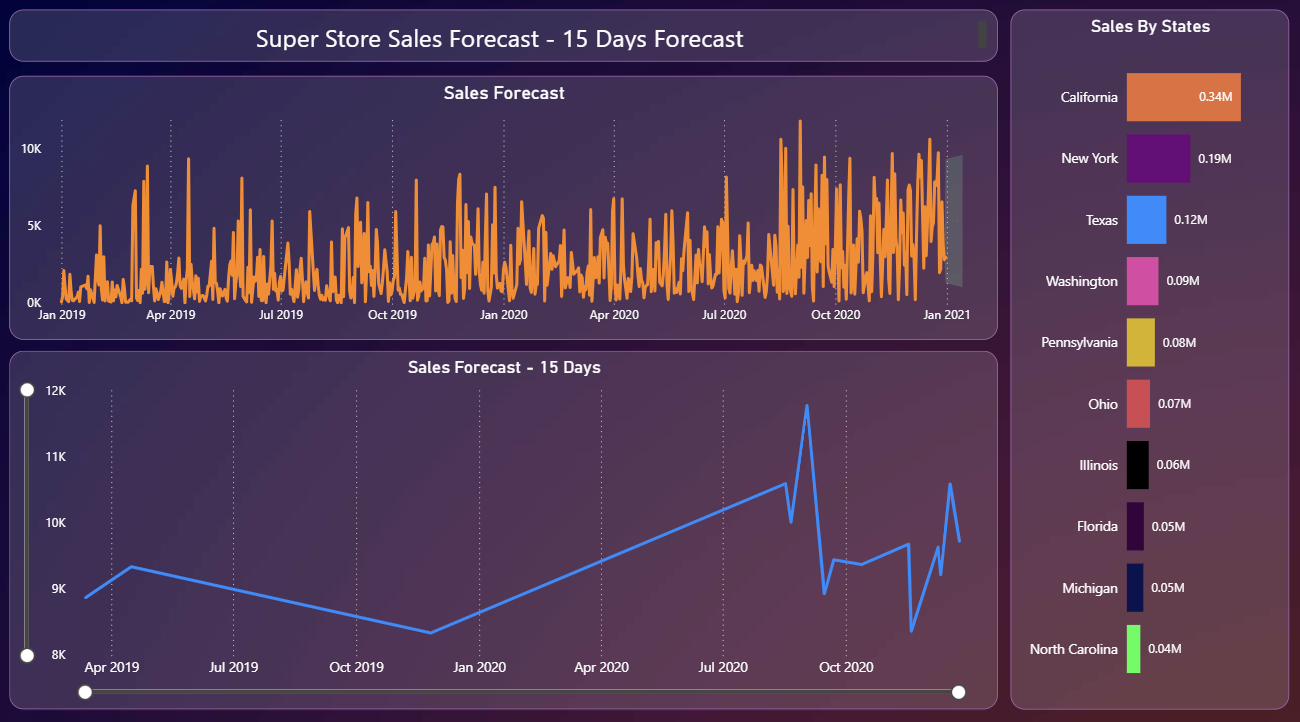

The page's visual inventory and layout, read from the dashboard file:
{"tool":"powerbi","page":{"name":"Series Forecast","canvas":[1280,720],"ordinal":1},"visuals":[{"type":"lineChart","title":"Sales Forecast - 15 Days","fields":{"Y":["Sum(SuperStore_Sales_Dataset.Sales)"],"Category":["SuperStore_Sales_Dataset.Order Date"]},"box":[11,347.2,970.6,352.1],"z":0},{"type":"lineChart","title":"Sales Forecast ","fields":{"Y":["Sum(SuperStore_Sales_Dataset.Sales)"],"Category":["SuperStore_Sales_Dataset.Order Date"]},"box":[11,77.3,970.6,258.9],"z":1000},{"type":"textbox","box":[11,12.3,970.6,51.5],"z":2000},{"type":"clusteredBarChart","title":"Sales By States","fields":{"Category":["SuperStore_Sales_Dataset.State"],"Y":["Sum(SuperStore_Sales_Dataset.Sales)"]},"box":[993.9,12.3,273.6,687.1],"z":3000}]}

Visuals, with their boxes in screenshot pixels (x1, y1, x2, y2), scaled from the page's 1280x720 canvas onto the 1300x722 screenshot:
"Sales Forecast - 15 Days" lineChart: (x1=11, y1=348, x2=997, y2=701)
"Sales Forecast " lineChart: (x1=11, y1=78, x2=997, y2=337)
textbox: (x1=11, y1=12, x2=997, y2=64)
"Sales By States" clusteredBarChart: (x1=1009, y1=12, x2=1287, y2=701)
